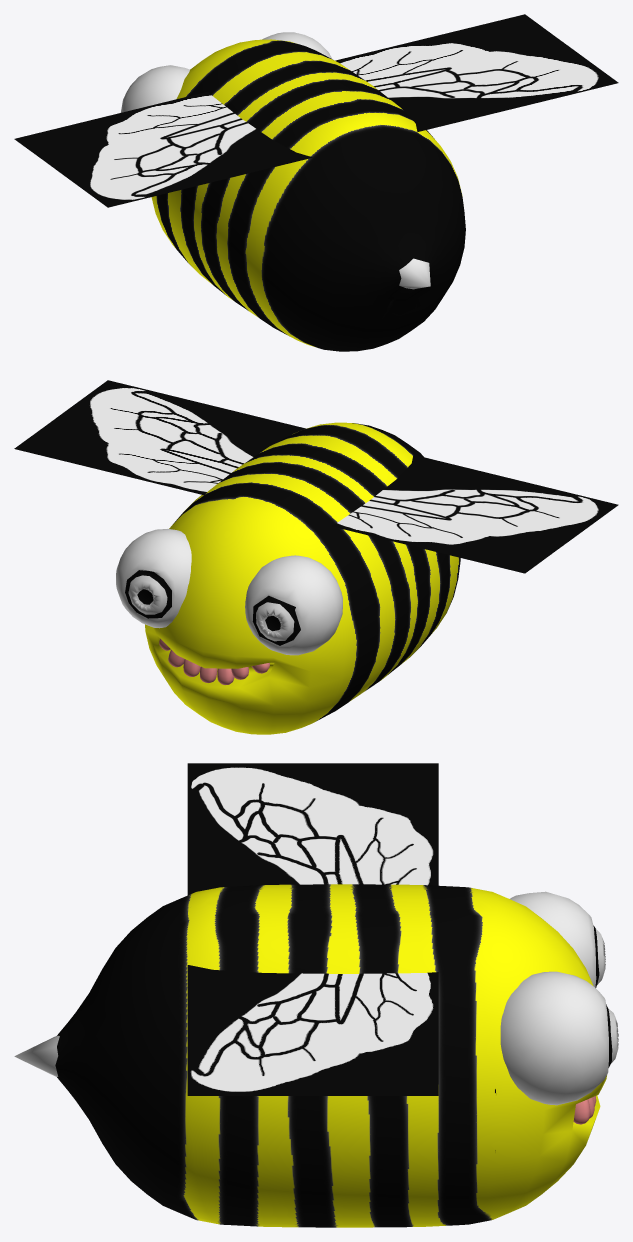
Rendered from bee.fbx.
3 renders of one model, top to bottom at view 1: azimuth 30°, elevation 25°; view 2: azimuth 150°, elevation 25°; view 3: azimuth 270°, elevation 25°, orthographic. The views are drawn at different scales.
Visible parts, largest first — view 1: Sphere.001, Wing.001, Wing, Cube.001, Cube.002; view 2: Sphere.001, Wing.001, Wing, Cube.001, Cube.002, Cube.008; view 3: Sphere.001, Wing, Wing.001, Cube.002, Cube.001.
Part boxes in pixels (left/top/right/bottom): Sphere.001: left=151, top=39, right=465, bottom=351; Wing.001: left=14, top=91, right=312, bottom=207; Wing: left=335, top=14, right=618, bottom=131; Cube.001: left=120, top=65, right=189, bottom=112; Cube.002: left=262, top=32, right=332, bottom=59; Sphere.001: left=145, top=422, right=460, bottom=734; Wing.001: left=331, top=454, right=618, bottom=573; Wing: left=14, top=380, right=305, bottom=495; Cube.001: left=245, top=555, right=342, bottom=655; Cube.002: left=116, top=529, right=191, bottom=628; Cube.008: left=159, top=638, right=269, bottom=685; Sphere.001: left=14, top=884, right=606, bottom=1227; Wing: left=187, top=965, right=438, bottom=1095; Wing.001: left=187, top=763, right=438, bottom=895; Cube.002: left=500, top=971, right=618, bottom=1105; Cube.001: left=510, top=891, right=605, bottom=987.
Size of the model in its own units: 450 by 197 by 346.
